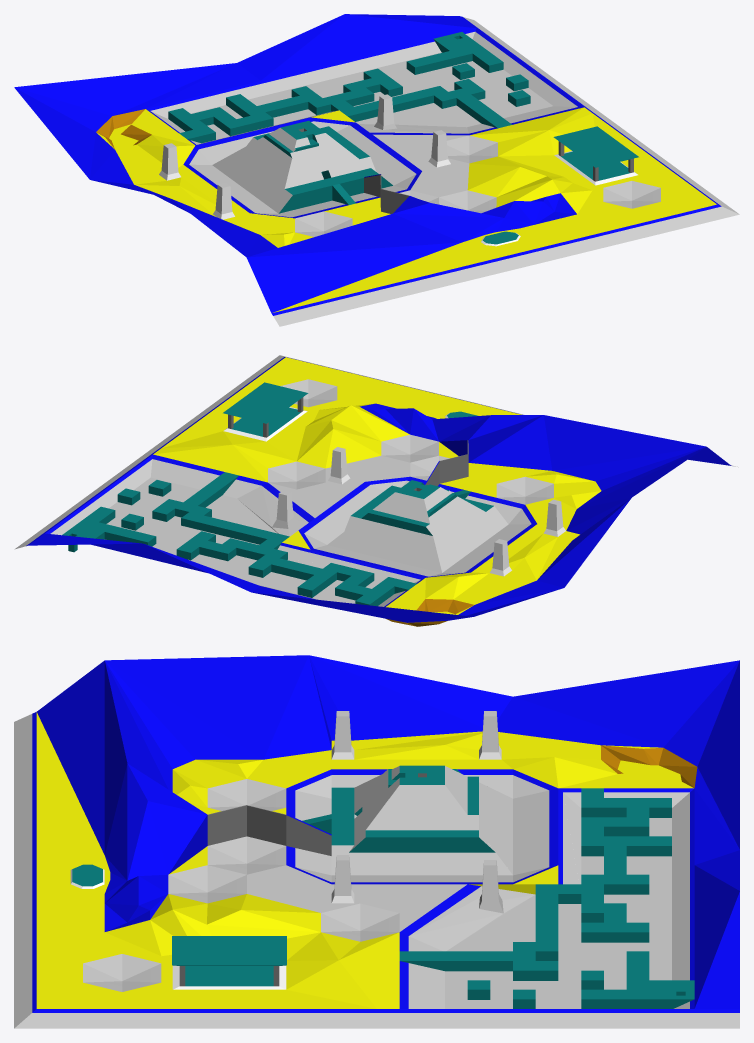
Rendered from ssl_segment7.0x0FD80.collision.obj.
3 views of the same model, one above another, from view 1: azimuth 30°, elevation 25°; view 2: azimuth 150°, elevation 25°; view 3: azimuth 270°, elevation 25° (orthographic). The views are drawn at different scales.
Visible parts, largest first — view 1: ssl_segment7_0FD80_very_slippery, ssl_segment7_0FD80_normal, ssl_segment7_0FD80_2D, ssl_segment7_0FD80_flat, ssl_segment7_0FD80_23, ssl_segment7_0FD80_35, ssl_segment7_0FD80_26, ssl_segment7_0FD80_snowy2, ssl_segment7_0FD80_25, ssl_segment7_0FD80_27, ssl_segment7_0FD80_wall, ssl_segment7_0FD80_24 (+1 smaller); view 2: ssl_segment7_0FD80_very_slippery, ssl_segment7_0FD80_normal, ssl_segment7_0FD80_flat, ssl_segment7_0FD80_2D, ssl_segment7_0FD80_35, ssl_segment7_0FD80_23, ssl_segment7_0FD80_26, ssl_segment7_0FD80_25, ssl_segment7_0FD80_snowy2, ssl_segment7_0FD80_27, ssl_segment7_0FD80_wall, ssl_segment7_0FD80_24 (+1 smaller); view 3: ssl_segment7_0FD80_very_slippery, ssl_segment7_0FD80_normal, ssl_segment7_0FD80_2D, ssl_segment7_0FD80_flat, ssl_segment7_0FD80_23, ssl_segment7_0FD80_35, ssl_segment7_0FD80_26, ssl_segment7_0FD80_25, ssl_segment7_0FD80_wall, ssl_segment7_0FD80_snowy2, ssl_segment7_0FD80_27, ssl_segment7_0FD80_24 (+1 smaller).
Boxes of the visible parts, bbox=[...] form: ssl_segment7_0FD80_very_slippery: bbox=[14, 14, 721, 315]; ssl_segment7_0FD80_normal: bbox=[97, 107, 716, 312]; ssl_segment7_0FD80_2D: bbox=[150, 17, 739, 326]; ssl_segment7_0FD80_flat: bbox=[168, 32, 638, 244]; ssl_segment7_0FD80_23: bbox=[191, 52, 552, 139]; ssl_segment7_0FD80_35: bbox=[212, 121, 396, 213]; ssl_segment7_0FD80_26: bbox=[373, 134, 469, 197]; ssl_segment7_0FD80_snowy2: bbox=[159, 96, 637, 246]; ssl_segment7_0FD80_25: bbox=[295, 135, 660, 236]; ssl_segment7_0FD80_27: bbox=[302, 140, 653, 235]; ssl_segment7_0FD80_wall: bbox=[298, 128, 633, 213]; ssl_segment7_0FD80_24: bbox=[309, 145, 646, 234]; ssl_segment7_0FD80_very_slippery: bbox=[26, 357, 731, 622]; ssl_segment7_0FD80_normal: bbox=[153, 357, 601, 614]; ssl_segment7_0FD80_flat: bbox=[62, 382, 493, 606]; ssl_segment7_0FD80_2D: bbox=[14, 355, 738, 606]; ssl_segment7_0FD80_35: bbox=[272, 487, 508, 572]; ssl_segment7_0FD80_23: bbox=[106, 477, 380, 603]; ssl_segment7_0FD80_26: bbox=[268, 455, 410, 517]; ssl_segment7_0FD80_25: bbox=[268, 379, 553, 504]; ssl_segment7_0FD80_snowy2: bbox=[223, 407, 565, 576]; ssl_segment7_0FD80_27: bbox=[275, 384, 546, 502]; ssl_segment7_0FD80_wall: bbox=[228, 397, 468, 491]; ssl_segment7_0FD80_24: bbox=[282, 389, 539, 500]; ssl_segment7_0FD80_very_slippery: bbox=[32, 655, 739, 1012]; ssl_segment7_0FD80_normal: bbox=[36, 712, 693, 1008]; ssl_segment7_0FD80_2D: bbox=[14, 714, 739, 1028]; ssl_segment7_0FD80_flat: bbox=[72, 765, 694, 1008]; ssl_segment7_0FD80_23: bbox=[445, 818, 671, 1008]; ssl_segment7_0FD80_35: bbox=[331, 766, 512, 913]; ssl_segment7_0FD80_26: bbox=[247, 865, 466, 931]; ssl_segment7_0FD80_25: bbox=[83, 779, 399, 991]; ssl_segment7_0FD80_wall: bbox=[179, 773, 426, 986]; ssl_segment7_0FD80_snowy2: bbox=[70, 712, 501, 989]; ssl_segment7_0FD80_27: bbox=[92, 785, 389, 989]; ssl_segment7_0FD80_24: bbox=[102, 792, 379, 986].
Bounding box in the file's own units: 16.25 × 1.87 × 16.
